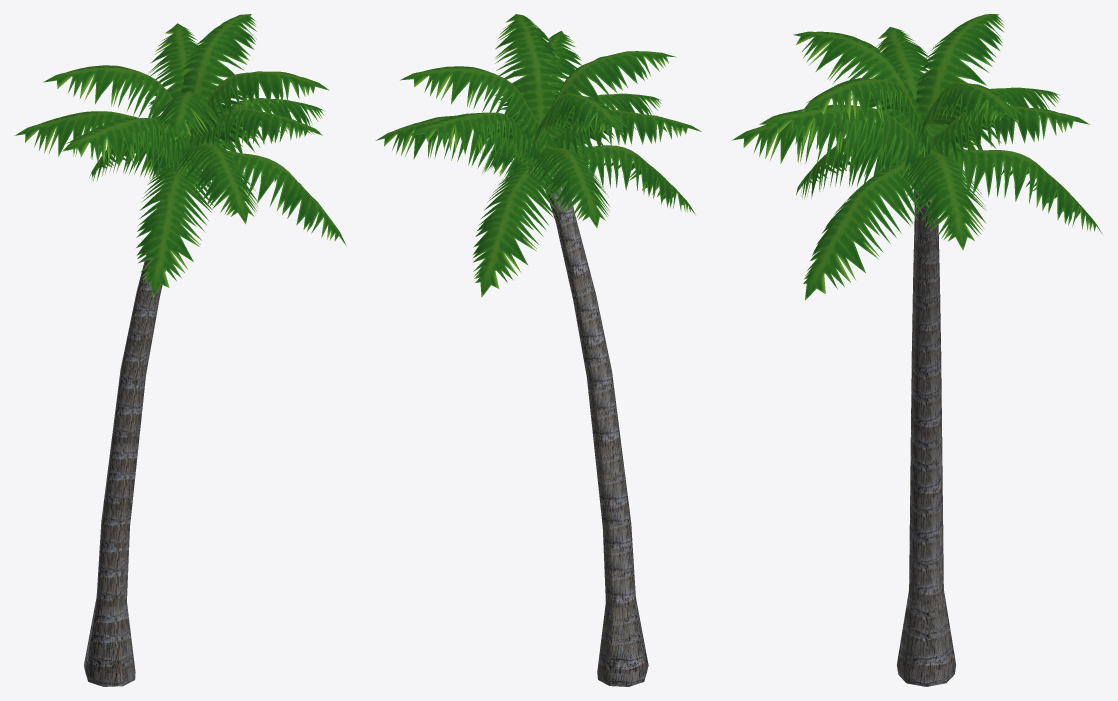
Rendered from tropical_palm_tree.glb.
The picture shows the model from 3 angles, left to right: view 1: azimuth 30°, elevation 25°; view 2: azimuth 150°, elevation 25°; view 3: azimuth 270°, elevation 25°; orthographic projection. The views are drawn at different scales.
Visible parts, largest first — view 1: palm_leaves, palm_trunk; view 2: palm_leaves, palm_trunk; view 3: palm_leaves, palm_trunk.
Part boxes in pixels (bbox=[...]): palm_leaves: bbox=[14, 14, 346, 297]; palm_trunk: bbox=[84, 200, 165, 686]; palm_leaves: bbox=[375, 14, 701, 297]; palm_trunk: bbox=[545, 163, 648, 686]; palm_leaves: bbox=[731, 14, 1102, 300]; palm_trunk: bbox=[897, 181, 955, 686].
Bounding box in the file's own units: 1189 × 2281 × 1163.
Materials: 2 (2 with a texture image).
